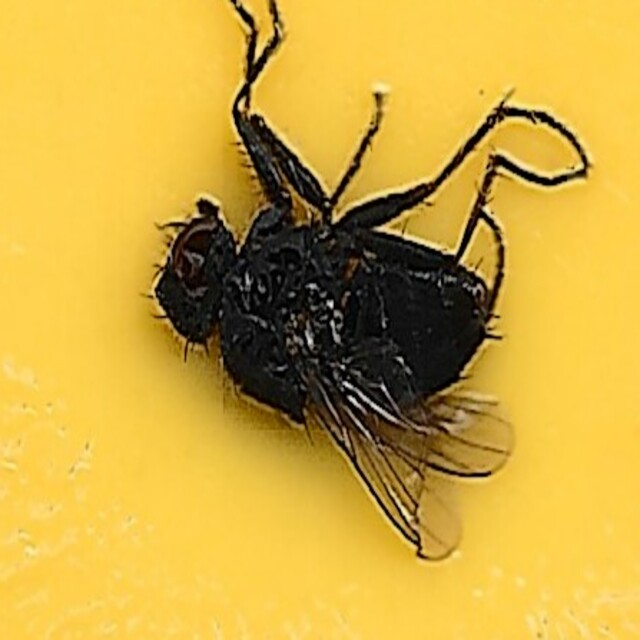Brachycera: (143, 204, 497, 436)
